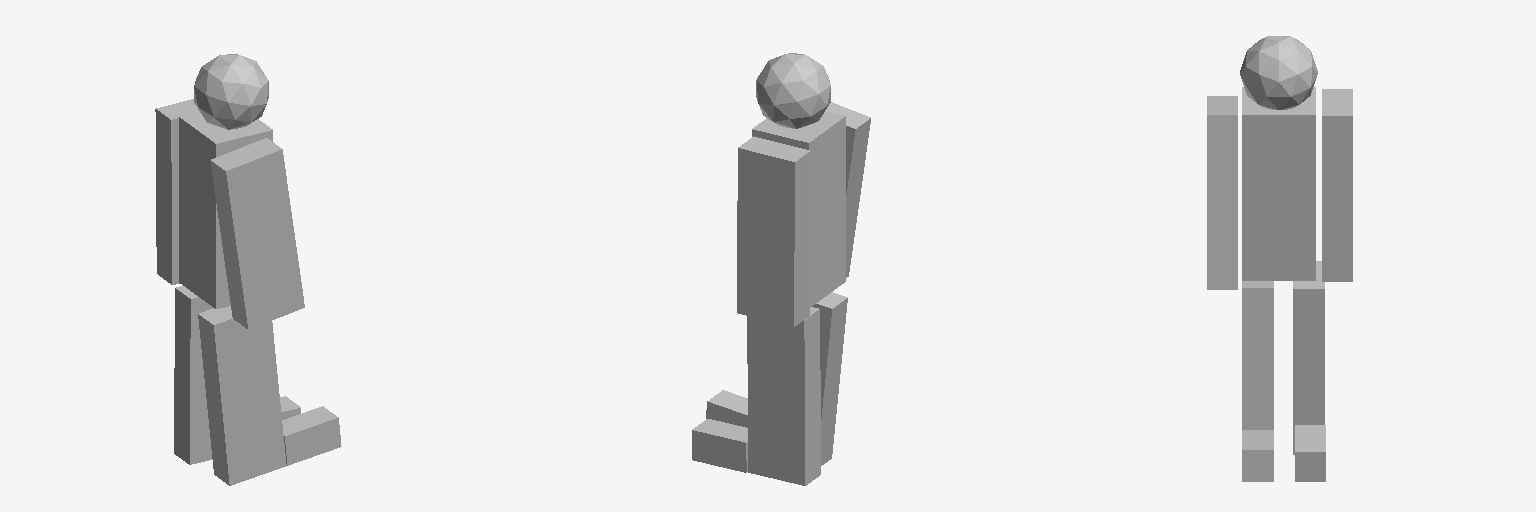
The model's file is player_000010.obj.
The picture shows the model from 3 angles: view 1: azimuth 30°, elevation 25°; view 2: azimuth 150°, elevation 25°; view 3: azimuth 270°, elevation 25°; orthographic projection.
Parts seen in each view (by area): view 1: Cube.005, Cube.001, Cube, Cube.002, Icosphere, Cube.006, Cube.003; view 2: Cube.006, Cube.002, Cube, Icosphere, Cube.001, Cube.005, Cube.004, Cube.003; view 3: Cube, Cube.005, Cube.006, Cube.002, Cube.001, Icosphere, Cube.004, Cube.003.
Part boxes in pixels (x1,y1,x2,y2): Cube.005: (210,138,304,329); Cube.001: (198,306,286,485); Cube: (179,112,272,308); Cube.002: (174,286,212,464); Icosphere: (194,54,268,129); Cube.006: (155,99,199,284); Cube.003: (282,406,341,465); Cube.006: (737,136,810,326); Cube.002: (747,307,820,485); Cube: (752,111,845,307); Icosphere: (756,53,830,128); Cube.001: (812,292,847,465); Cube.005: (825,102,870,277); Cube.004: (692,419,747,472); Cube.003: (706,390,747,427); Cube: (1242,87,1315,280); Cube.005: (1207,96,1237,289); Cube.006: (1322,89,1352,281); Cube.002: (1293,261,1324,454); Cube.001: (1242,281,1273,429); Icosphere: (1240,36,1317,109); Cube.004: (1295,425,1325,481); Cube.003: (1242,430,1273,481).
Size of the model in its own units: 0.9597 by 2.82 by 0.9137.